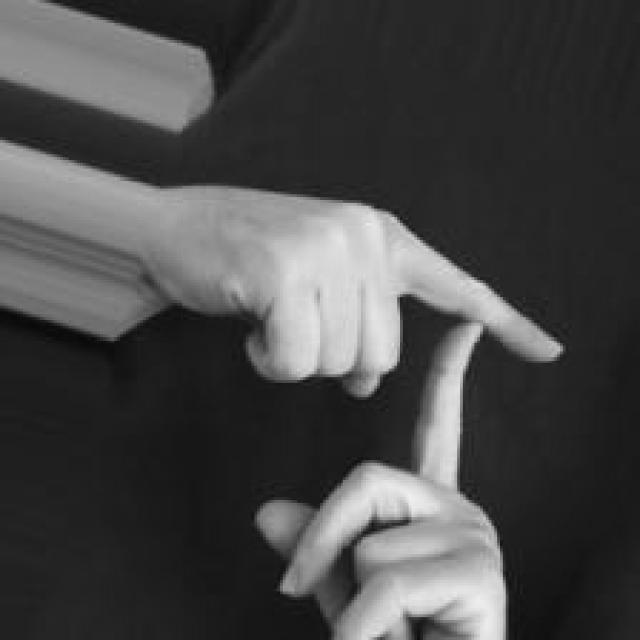T: (152, 171, 573, 640)
